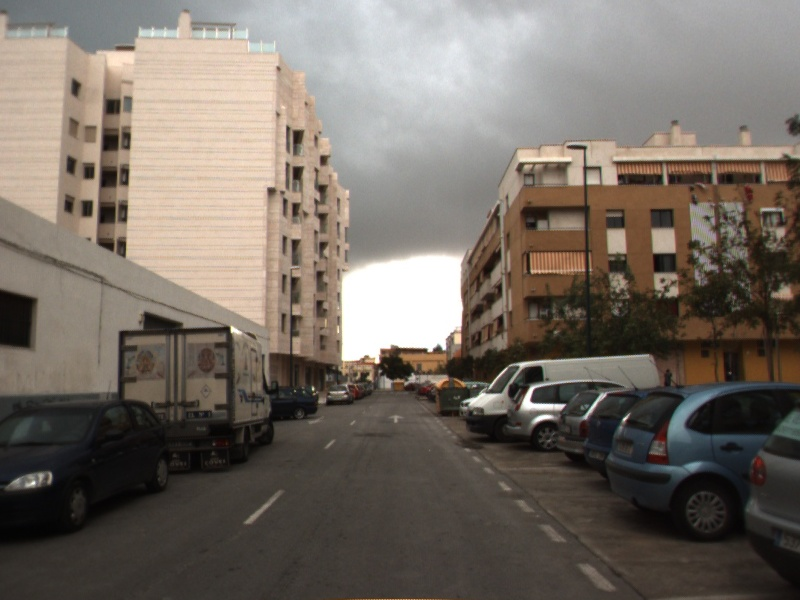STRAIGHT: (386, 412, 408, 425)
